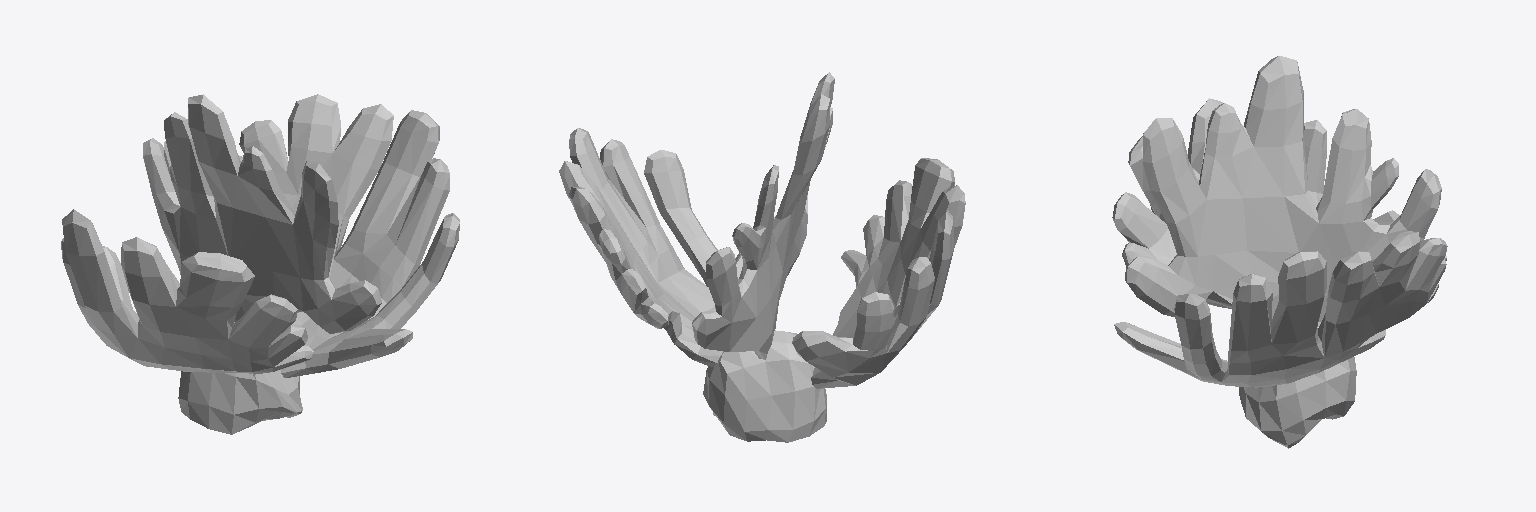
File: Elkhorn_03_LOD1.obj
3 views of the same model, side by side, from view 1: azimuth 30°, elevation 25°; view 2: azimuth 150°, elevation 25°; view 3: azimuth 270°, elevation 25° (orthographic).
Parts seen in each view (by area): view 1: Elkhorn_03_LOD1_Cube.537; view 2: Elkhorn_03_LOD1_Cube.537; view 3: Elkhorn_03_LOD1_Cube.537.
Part boxes in pixels (left/top/right/bottom): Elkhorn_03_LOD1_Cube.537: left=61, top=94, right=459, bottom=434; Elkhorn_03_LOD1_Cube.537: left=559, top=72, right=965, bottom=442; Elkhorn_03_LOD1_Cube.537: left=1112, top=56, right=1447, bottom=448.
Bounding box in the file's own units: 10.95 × 9.73 × 8.46.